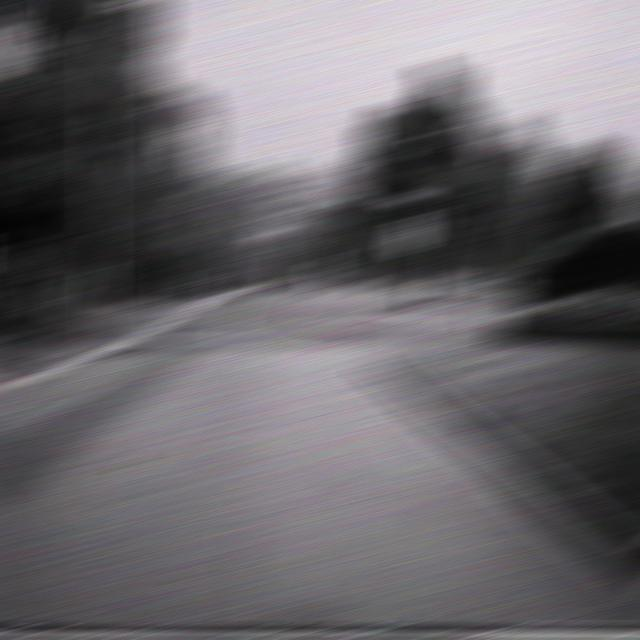stop_sign: (390, 215, 428, 253)
